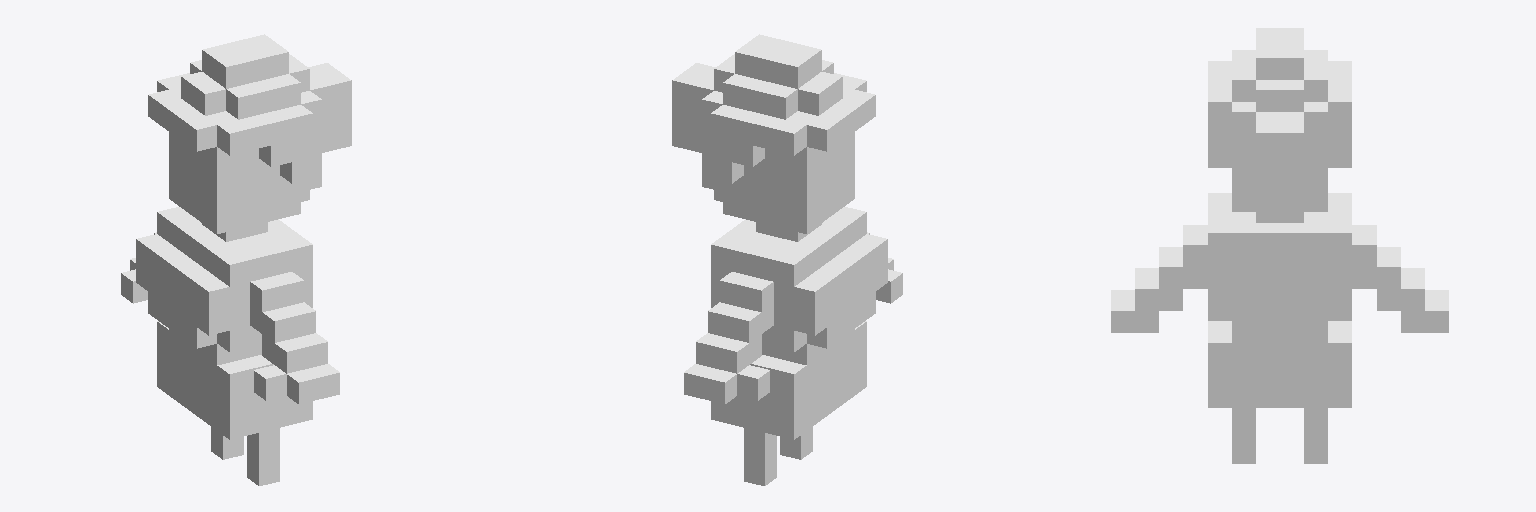
Rendered from Receptionist.obj.
3 renders of one model, left to right at view 1: azimuth 30°, elevation 25°; view 2: azimuth 150°, elevation 25°; view 3: azimuth 270°, elevation 25°, orthographic.
Visible parts, largest first — view 1: Receptionist; view 2: Receptionist; view 3: Receptionist.
Part boxes in pixels (left/top/right/bottom): Receptionist: left=121, top=34, right=351, bottom=485; Receptionist: left=672, top=34, right=902, bottom=485; Receptionist: left=1111, top=28, right=1448, bottom=463.
Bounding box in the file's own units: 8 × 19 × 14.